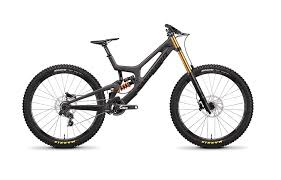bicycle: (16, 19, 256, 155)
